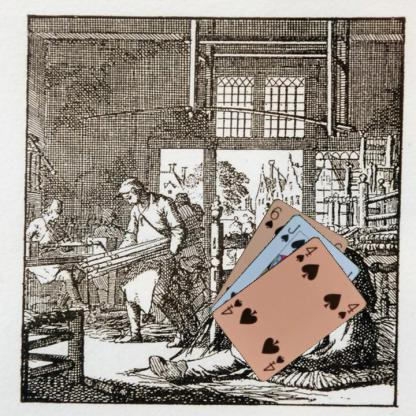4s: (293, 244, 319, 263), (260, 353, 286, 372)
6s: (262, 204, 283, 229)
Js: (278, 221, 302, 244)
